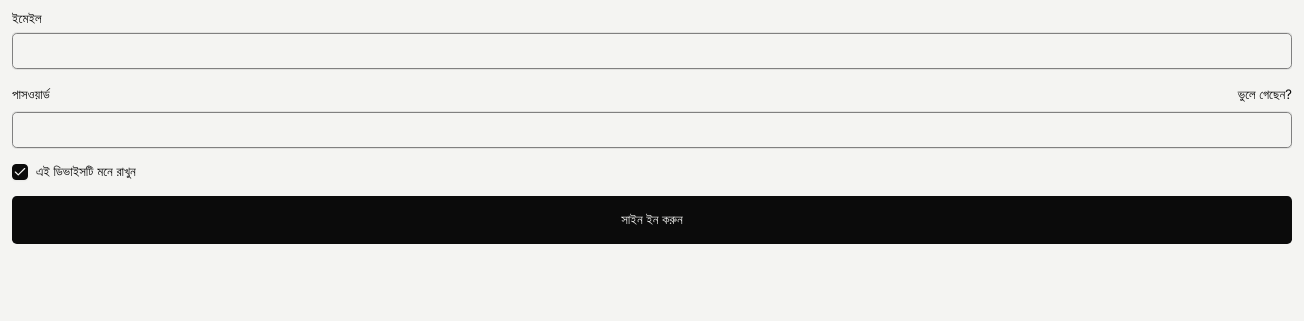
Test: LoginForm when rate-limited › says it in Bangla too
In the field labelled "ইমেইল": [652, 51] box [12,33,1292,69], type "a@b.co"
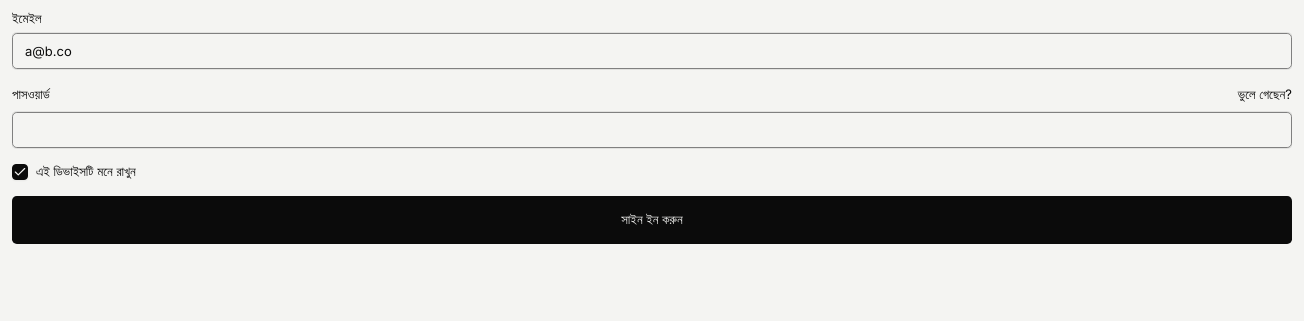
In the password field labelled "পাসওয়ার্ড": [652, 130] box [12,112,1292,148], type "correct horse battery"
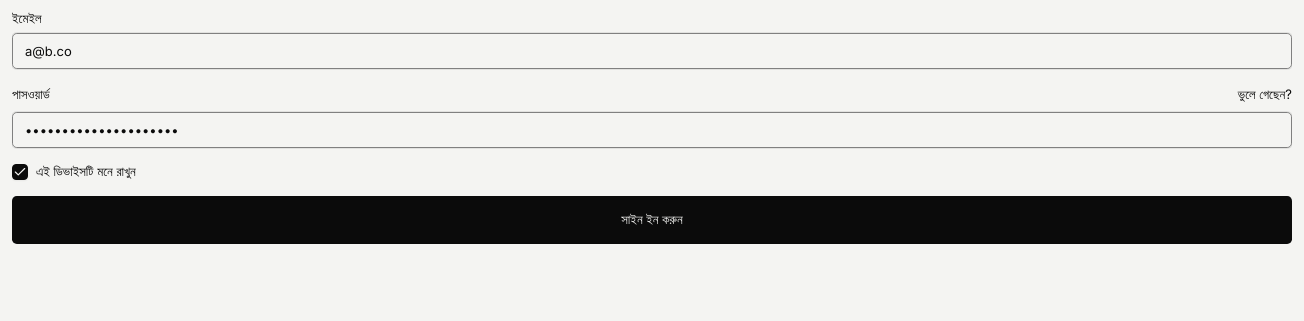
Click the button "সাইন ইন করুন": [652, 220] box [12,196,1292,244]
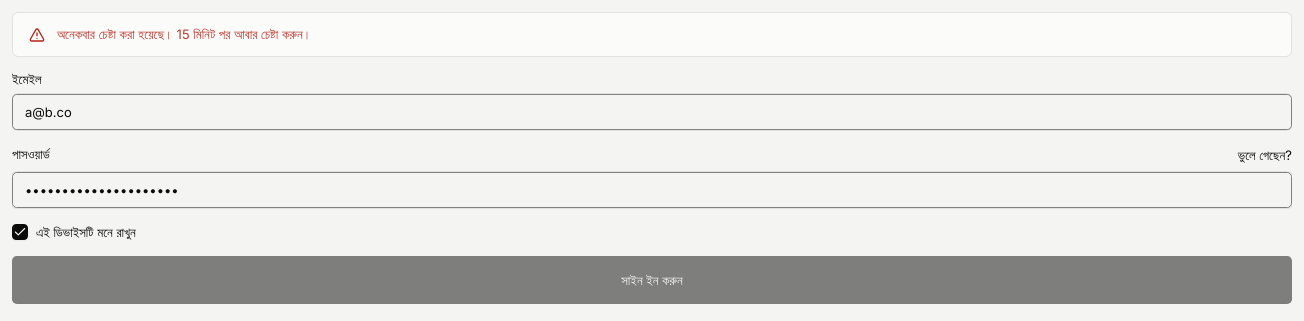
Result: the text "অনেকবার চেষ্টা করা হয়েছে। 15 মিনিট পর আবার চেষ্টা করুন।" is shown at [57,26,311,42]
